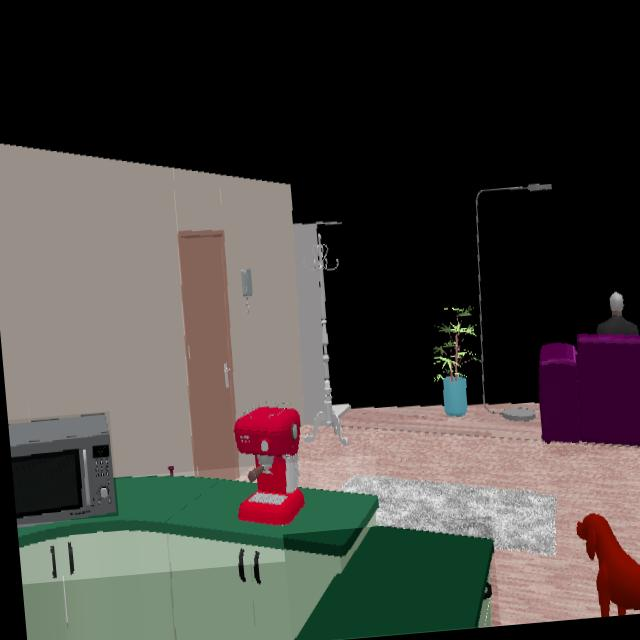cabinet: (19, 516, 368, 640)
countertop: (17, 475, 378, 556), (294, 527, 492, 640)
microwave: (8, 413, 117, 524)
person: (598, 292, 640, 337)
sofa: (537, 333, 640, 449)
